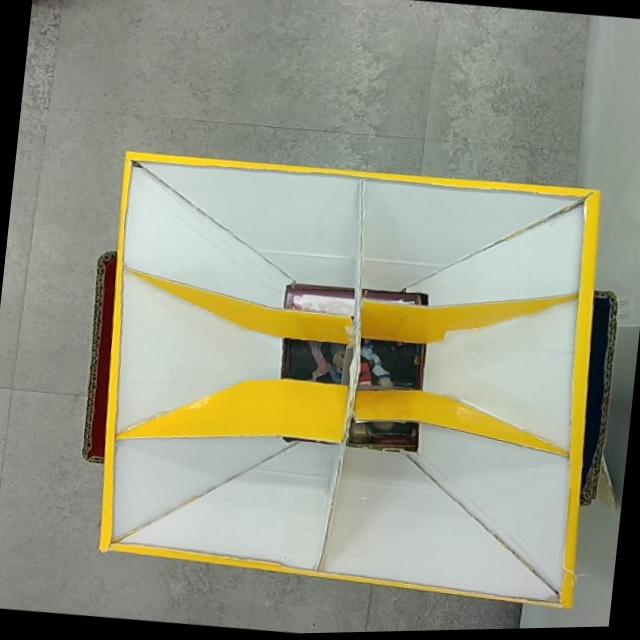box: (64, 137, 632, 622)
